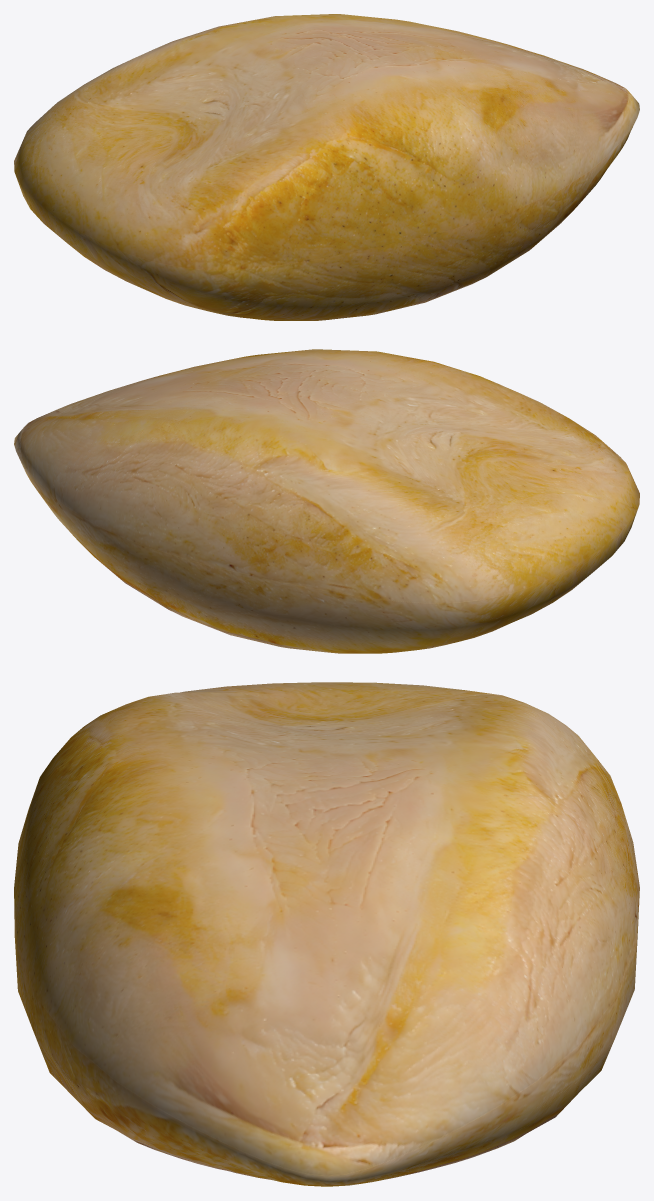
The model's file is cc0_-_cooked_chicken_breast_2.glb.
3 renders of one model, top to bottom at view 1: azimuth 30°, elevation 25°; view 2: azimuth 150°, elevation 25°; view 3: azimuth 270°, elevation 25°, orthographic. The views are drawn at different scales.
Parts seen in each view (by area): view 1: CookedChickenBreast; view 2: CookedChickenBreast; view 3: CookedChickenBreast.
Part boxes in pixels (x1=…): CookedChickenBreast: x1=14, y1=14, x2=639, y2=320; CookedChickenBreast: x1=14, y1=349, x2=639, y2=653; CookedChickenBreast: x1=14, y1=682, x2=639, y2=1186.
Size of the model in its own units: 0.1218 by 0.0433 by 0.0761.
1 material, 1 textured.
